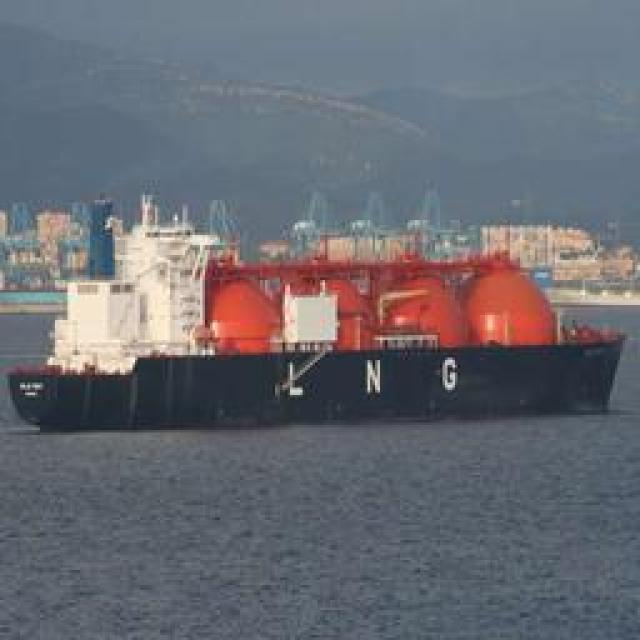CIV_Ship: (12, 200, 630, 425)
